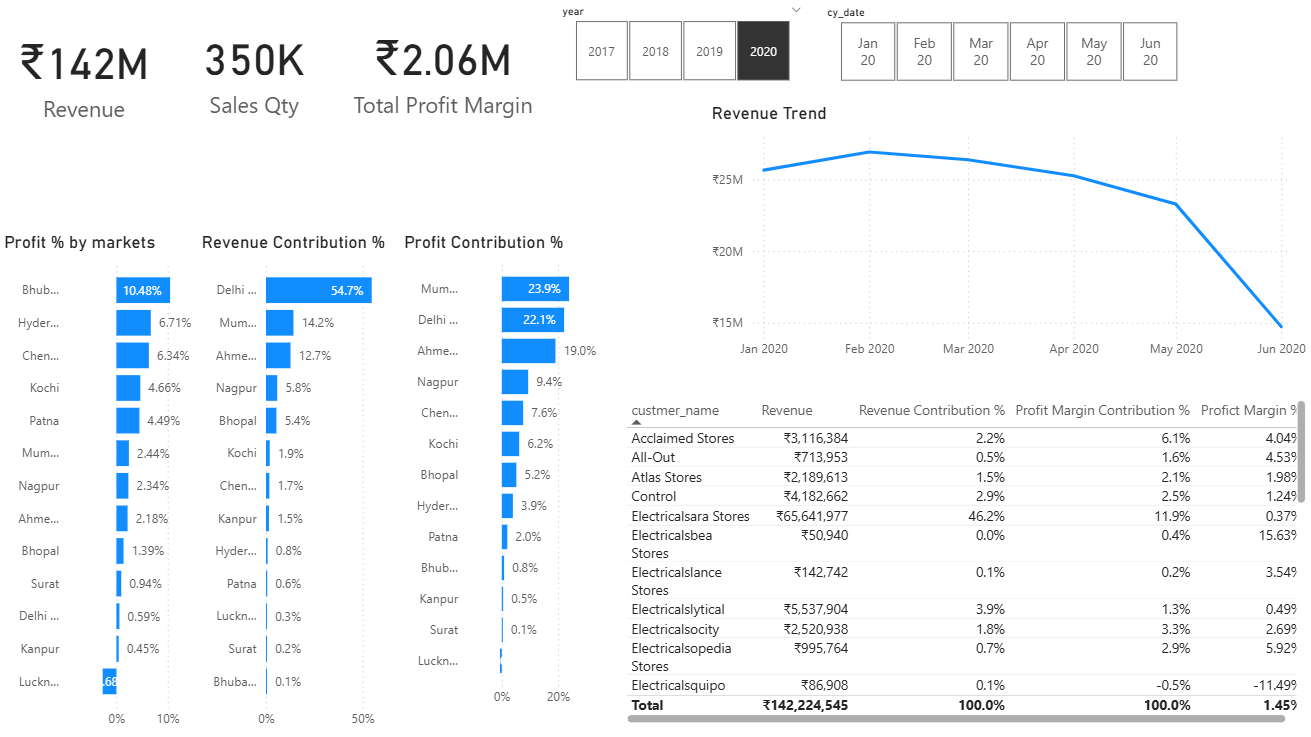

What the dashboard file says about the page in this screenshot:
{"tool":"powerbi","page":{"name":"Profit Analysis","canvas":[1280,720],"ordinal":1},"visuals":[{"type":"card","fields":{"Values":["BaseMeasures.Revenue"]},"box":[0,0,166.2,147.5],"z":0},{"type":"card","fields":{"Values":["BaseMeasures.Sales Qty"]},"box":[160,0,178.8,138.8],"z":1000},{"type":"barChart","title":"Profit % by markets","fields":{"Y":["BaseMeasures.Profict Margin %"],"Category":["sales markets.markets_name"]},"box":[0,226.2,218.8,493.8],"z":2000},{"type":"slicer","fields":{"Values":["sales date.year"]},"box":[536.2,0,258.8,86.2],"z":3000},{"type":"slicer","fields":{"Values":["sales date.cy_date"]},"box":[795,1.2,378.8,85],"z":4000},{"type":"tableEx","title":"Top 5 customers","fields":{"Values":["sales customers.custmer_name","BaseMeasures.Revenue","BaseMeasures.Revenue Contribution %","BaseMeasures.Profit Margin Contribution %","BaseMeasures.Profict Margin %"]},"box":[606.2,386.2,673.8,325],"z":5000},{"type":"lineChart","title":"Revenue Trend","fields":{"Y":["BaseMeasures.Revenue"],"Category":["sales date.cy_date"]},"box":[690,101.2,590,258.8],"z":6000},{"type":"card","fields":{"Values":["BaseMeasures.Total Profit Margin"]},"box":[338.8,0,188.8,138.8],"z":7000},{"type":"barChart","title":"Revenue Contribution %","fields":{"Y":["BaseMeasures.Revenue Contribution %"],"Category":["sales markets.markets_name"]},"box":[192.5,226.2,221.2,493.8],"z":8000},{"type":"barChart","title":"Profit Contribution %","fields":{"Y":["BaseMeasures.Profit Margin Contribution %"],"Category":["sales markets.markets_name"]},"box":[390,226.2,216.2,472.5],"z":9000}]}

Visuals, with their boxes in screenshot pixels (x1, y1, x2, y2), scaled from the page's 1280x720 canvas onto the 1311x737 screenshot:
card - BaseMeasures.Revenue: 0, 0, 170, 151
card - BaseMeasures.Sales Qty: 164, 0, 347, 142
"Profit % by markets" barChart: 0, 232, 224, 736
slicer - sales date.year: 549, 0, 814, 88
slicer - sales date.cy_date: 814, 1, 1202, 88
"Top 5 customers" tableEx: 621, 395, 1310, 728
"Revenue Trend" lineChart: 707, 104, 1310, 368
card - BaseMeasures.Total Profit Margin: 347, 0, 540, 142
"Revenue Contribution %" barChart: 197, 232, 424, 736
"Profit Contribution %" barChart: 399, 232, 621, 715
